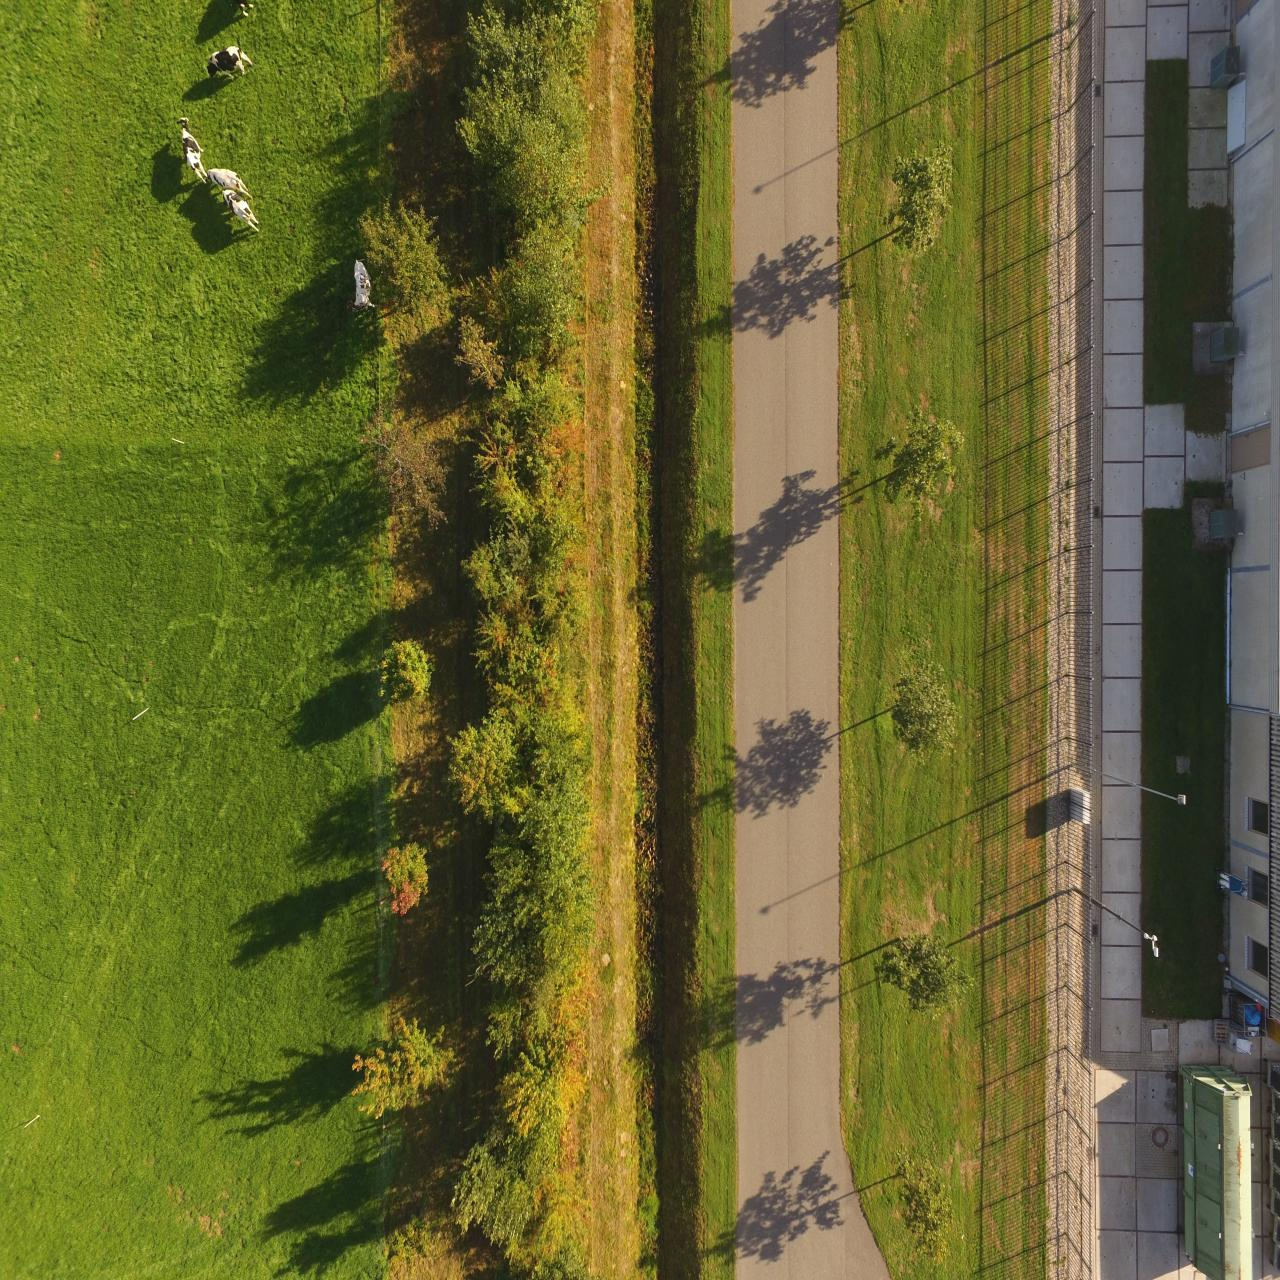cow: (177, 118, 206, 191), (345, 257, 380, 315), (204, 46, 260, 77), (219, 191, 263, 231), (204, 164, 256, 188)
